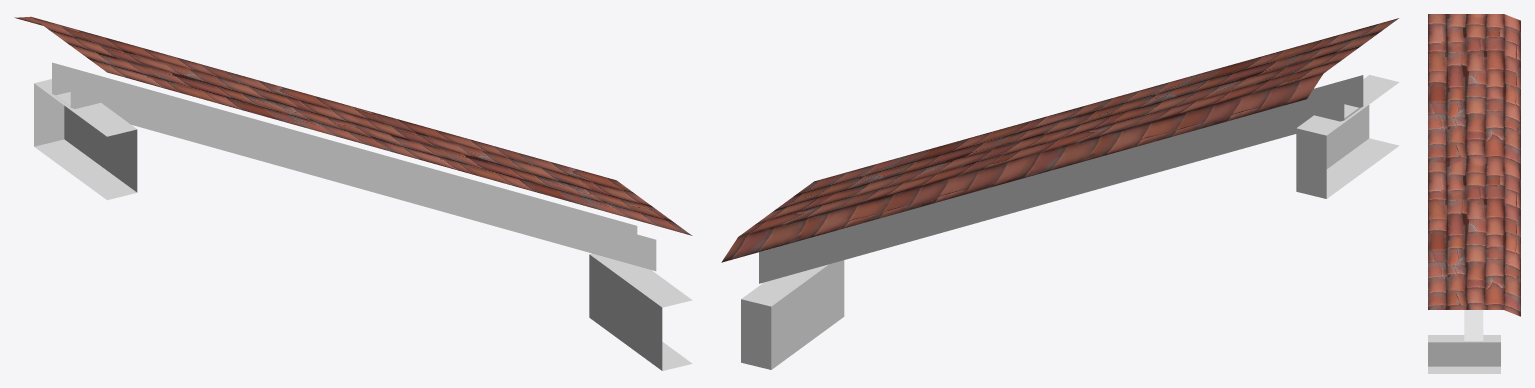
Rendered from WallKit_Verge_Left_LOD2.fbx.
3 renders of one model, left to right at view 1: azimuth 30°, elevation 25°; view 2: azimuth 150°, elevation 25°; view 3: azimuth 270°, elevation 25°, orthographic. The views are drawn at different scales.
Parts seen in each view (by area): view 1: WallKit_Verge_Left_LOD2; view 2: WallKit_Verge_Left_LOD2; view 3: WallKit_Verge_Left_LOD2.
Part boxes in pixels (left/top/right/bottom): WallKit_Verge_Left_LOD2: left=14, top=16, right=692, bottom=370; WallKit_Verge_Left_LOD2: left=721, top=18, right=1399, bottom=369; WallKit_Verge_Left_LOD2: left=1428, top=14, right=1520, bottom=373.
Bounding box in the file's own units: 400 × 283 × 110.
